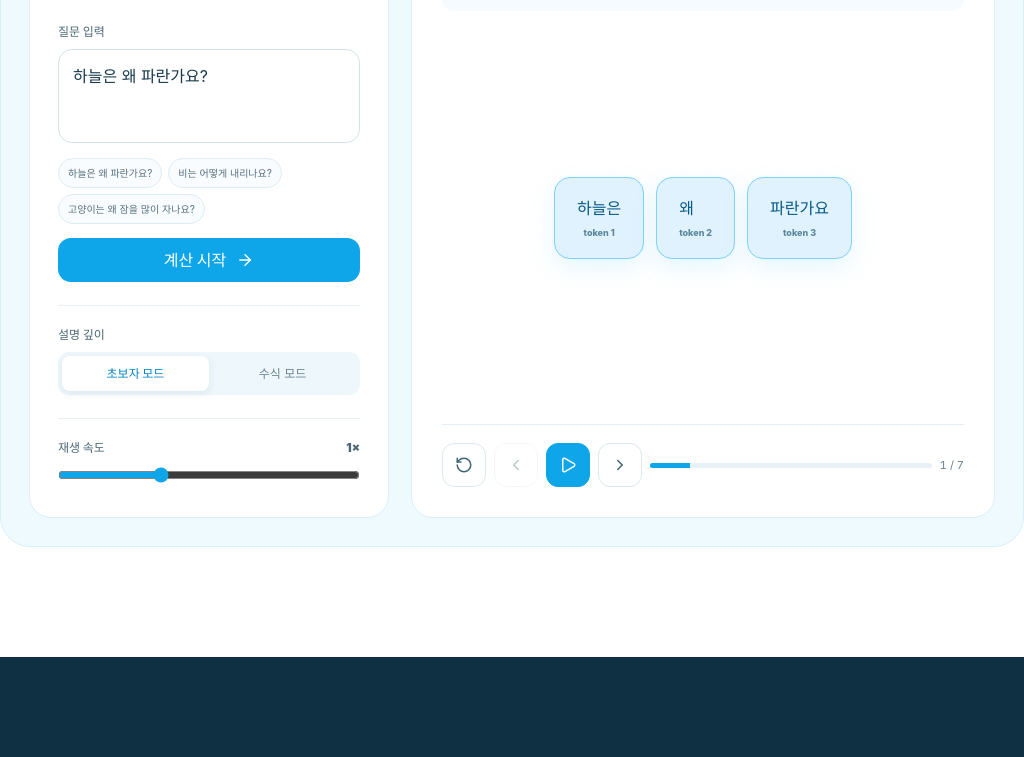
Scenario: Transformer Lab › switches between beginner and formula views
(page scrolled)
Step 1. Click the button "수식 모드" → click(282, 374), box [209,356,356,391]
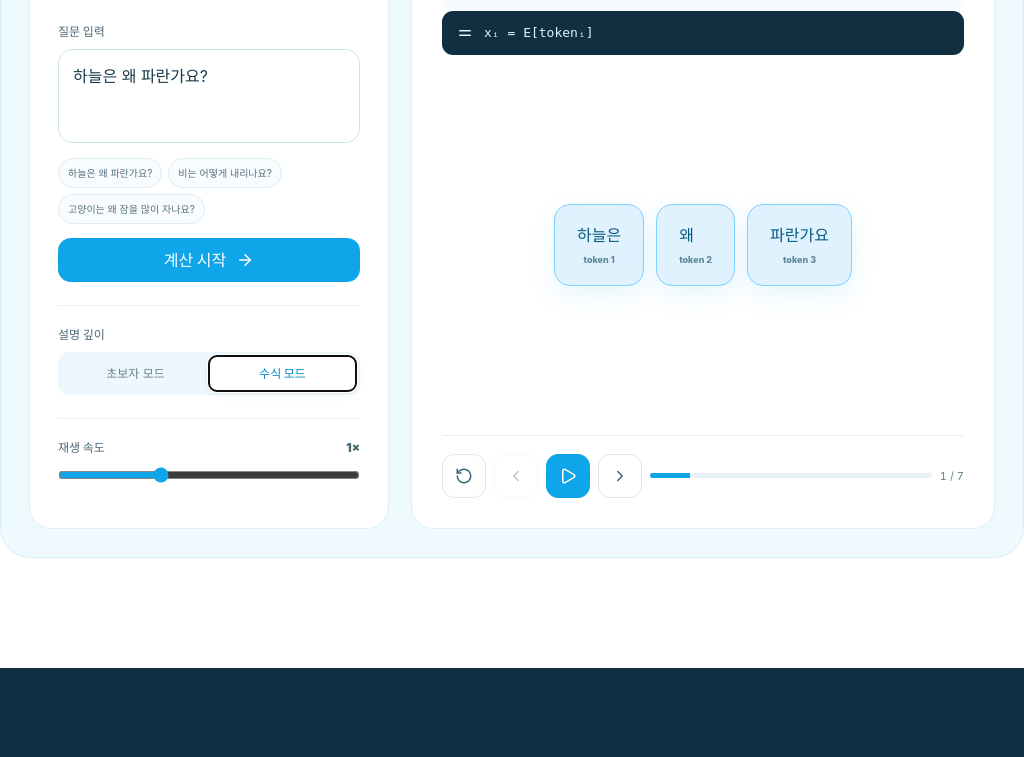
Now the text "xᵢ = E[tokenᵢ]" is shown, box [484,23,594,43]
